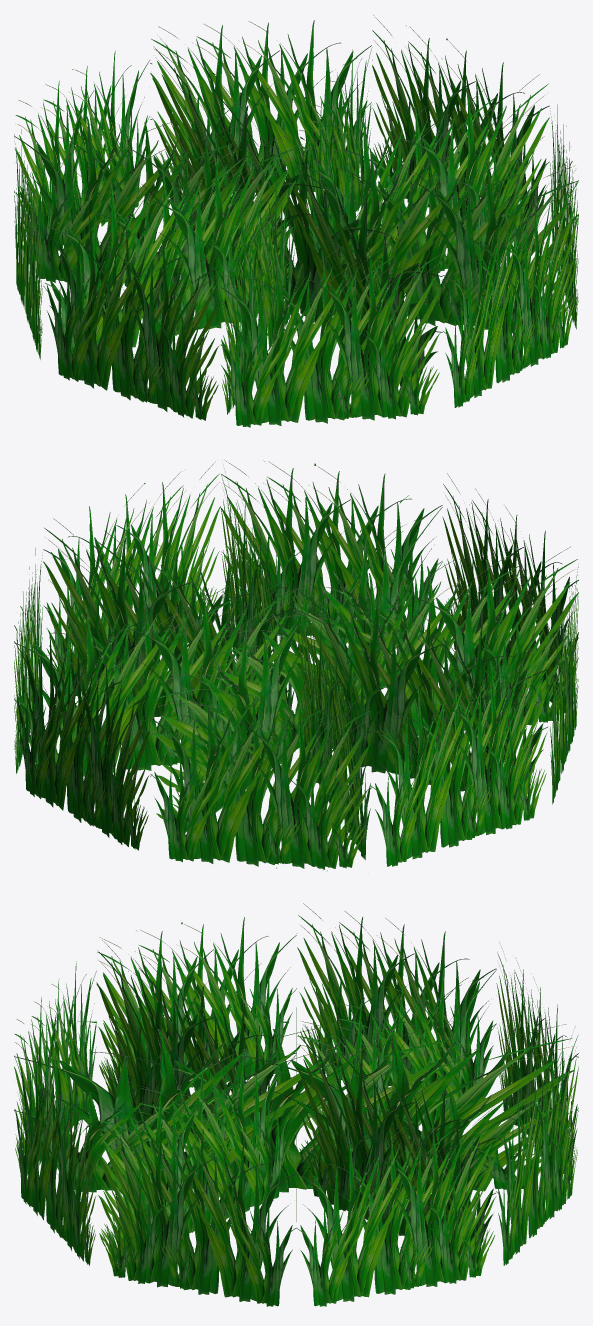
The model's file is grasstest.fbx.
3 views of the same model, one above another, from view 1: azimuth 30°, elevation 25°; view 2: azimuth 150°, elevation 25°; view 3: azimuth 270°, elevation 25° (orthographic). The views are drawn at different scales.
Visible parts, largest first — view 1: Cylinder; view 2: Cylinder; view 3: Cylinder.
Part boxes in pixels (x1,y1,x2,y2): Cylinder: (14, 15, 578, 427); Cylinder: (14, 460, 578, 870); Cylinder: (14, 903, 578, 1306).
Bounding box in the file's own units: 600 × 200 × 600.
